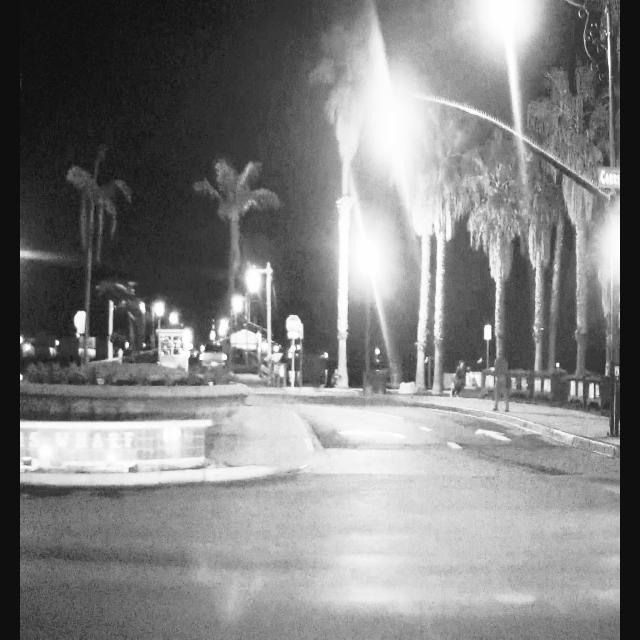Light: (387, 97, 397, 137), (616, 235, 621, 255)
Sign: (598, 167, 620, 188)
